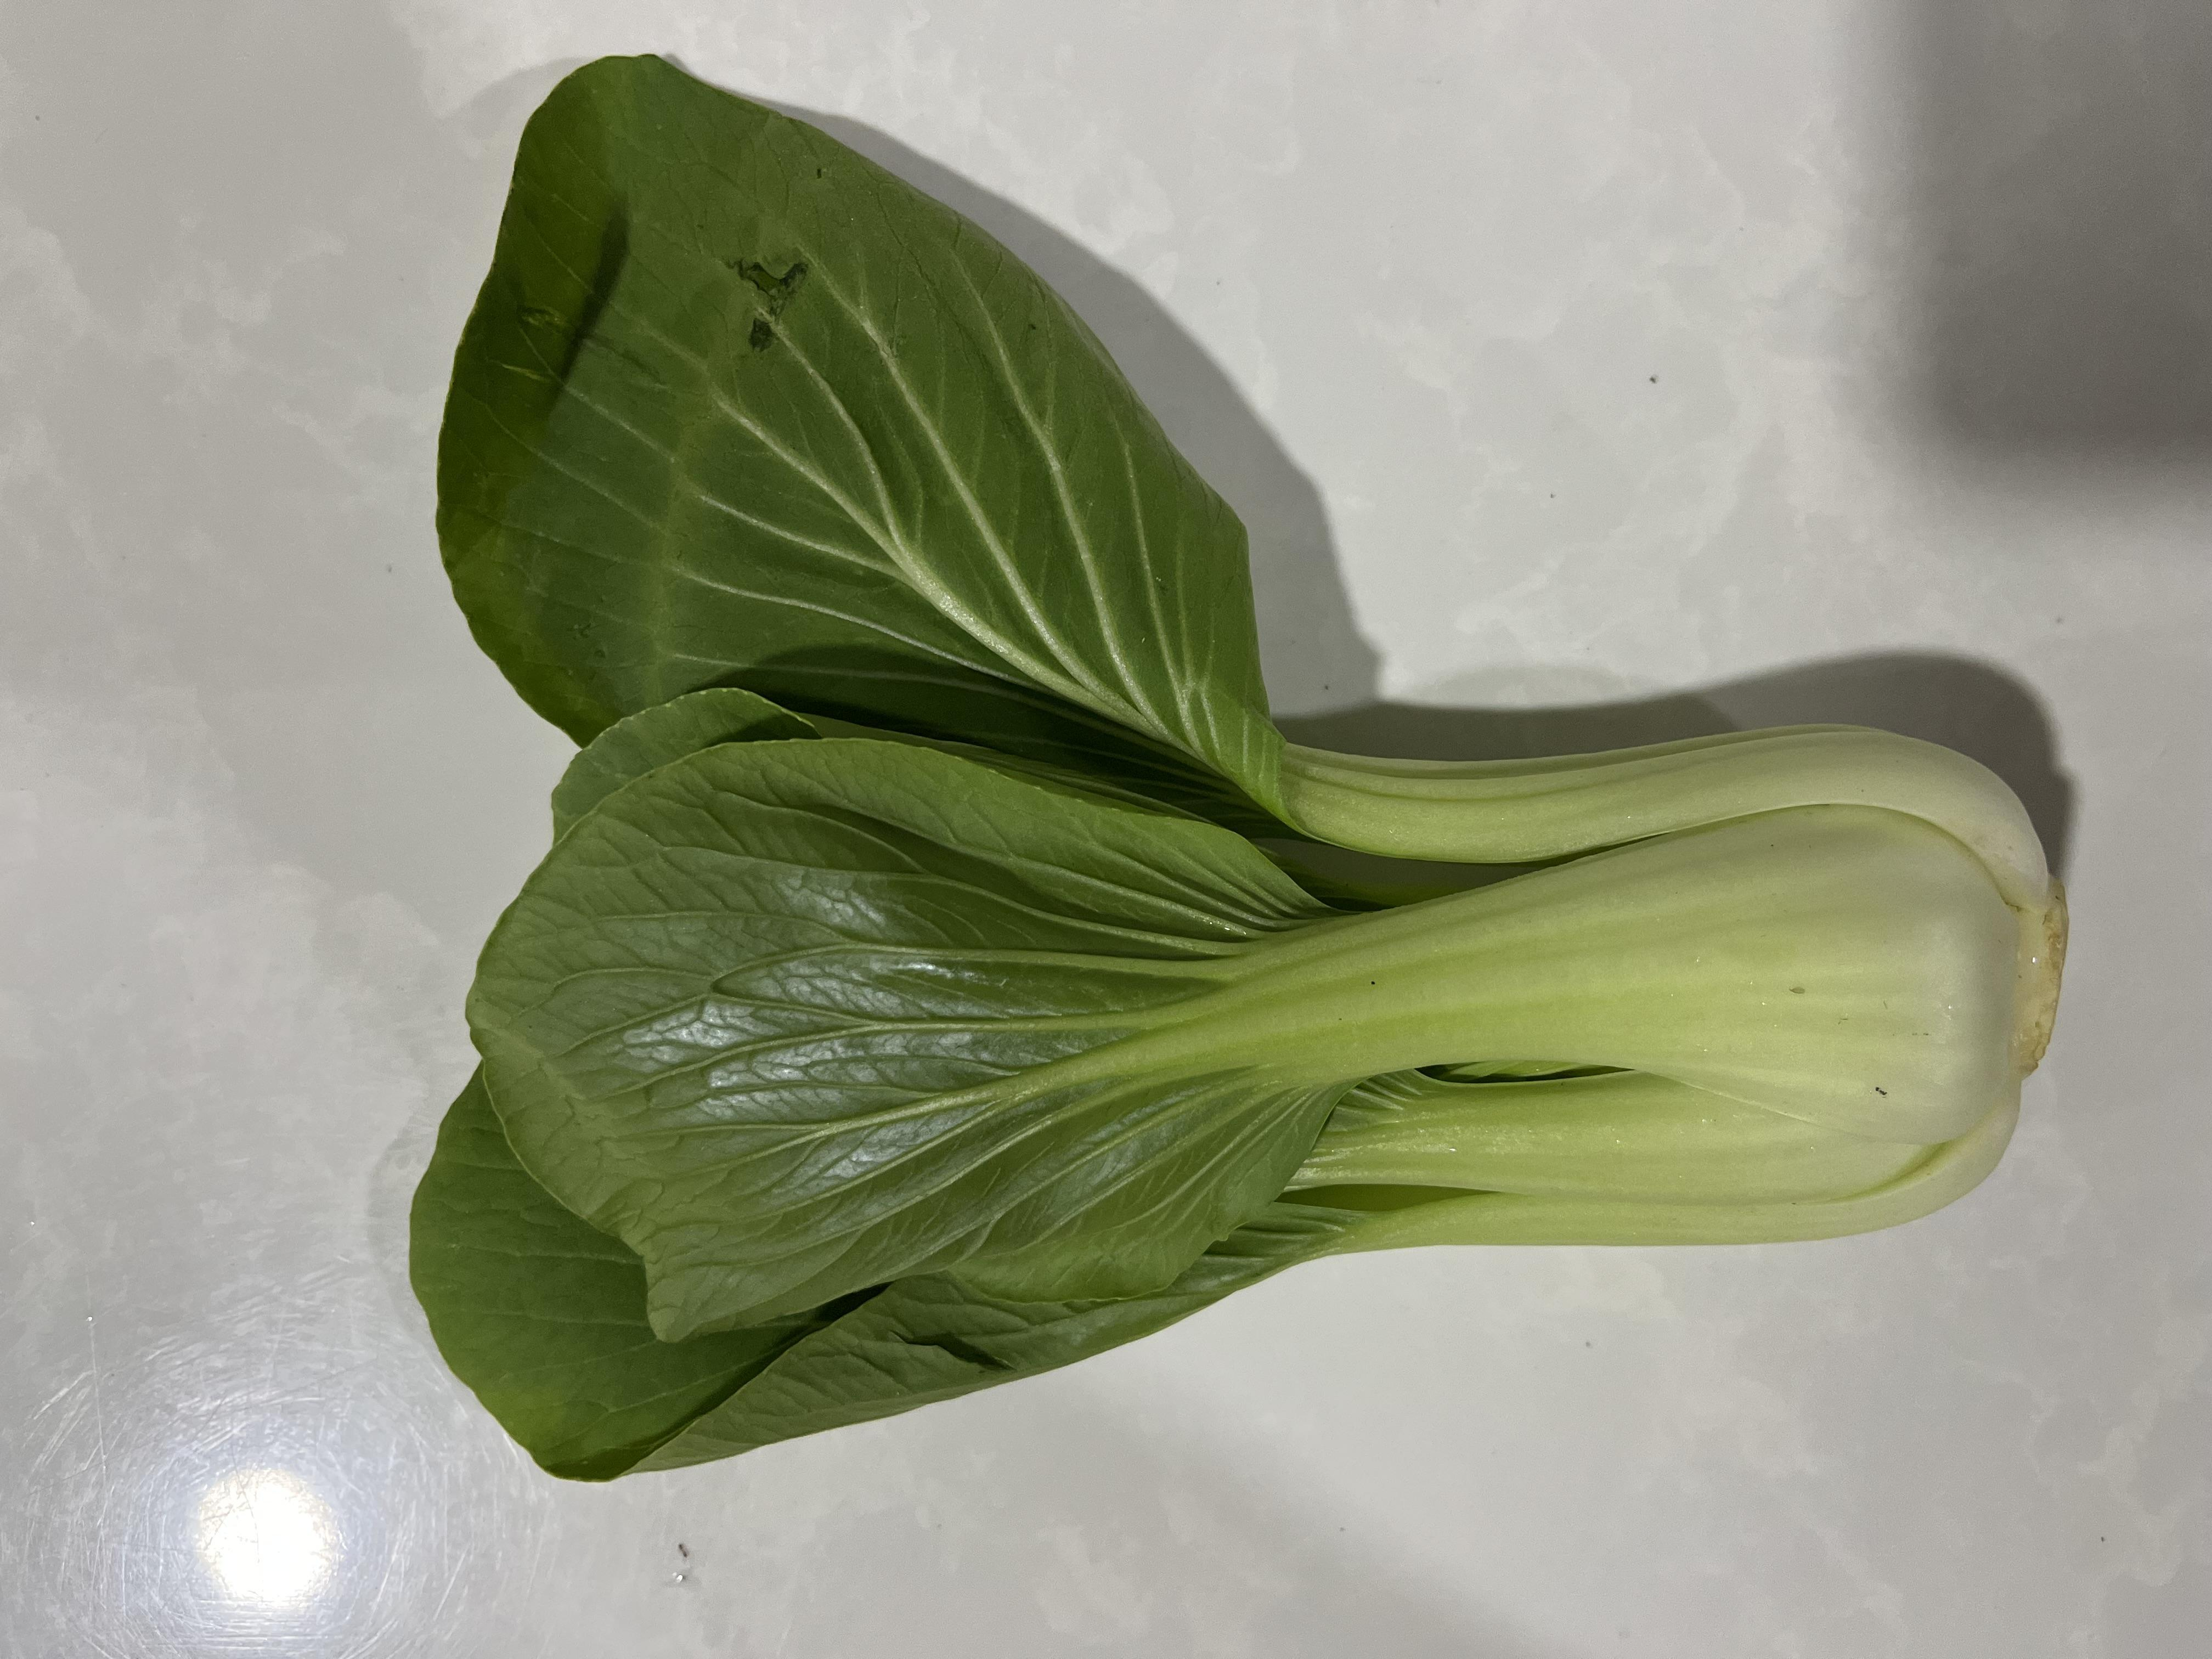Healthy-Pechay: (301, 115, 2184, 1530)
